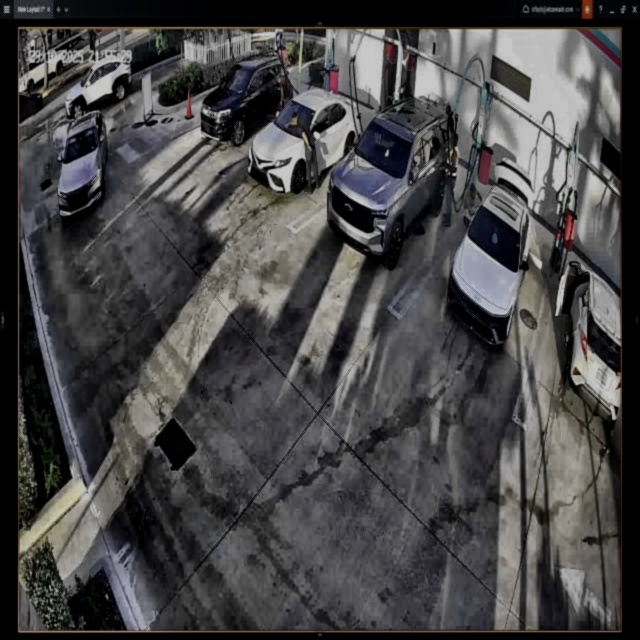Car: (328, 100, 457, 275), (450, 161, 535, 345), (250, 86, 360, 194), (201, 59, 293, 146)
